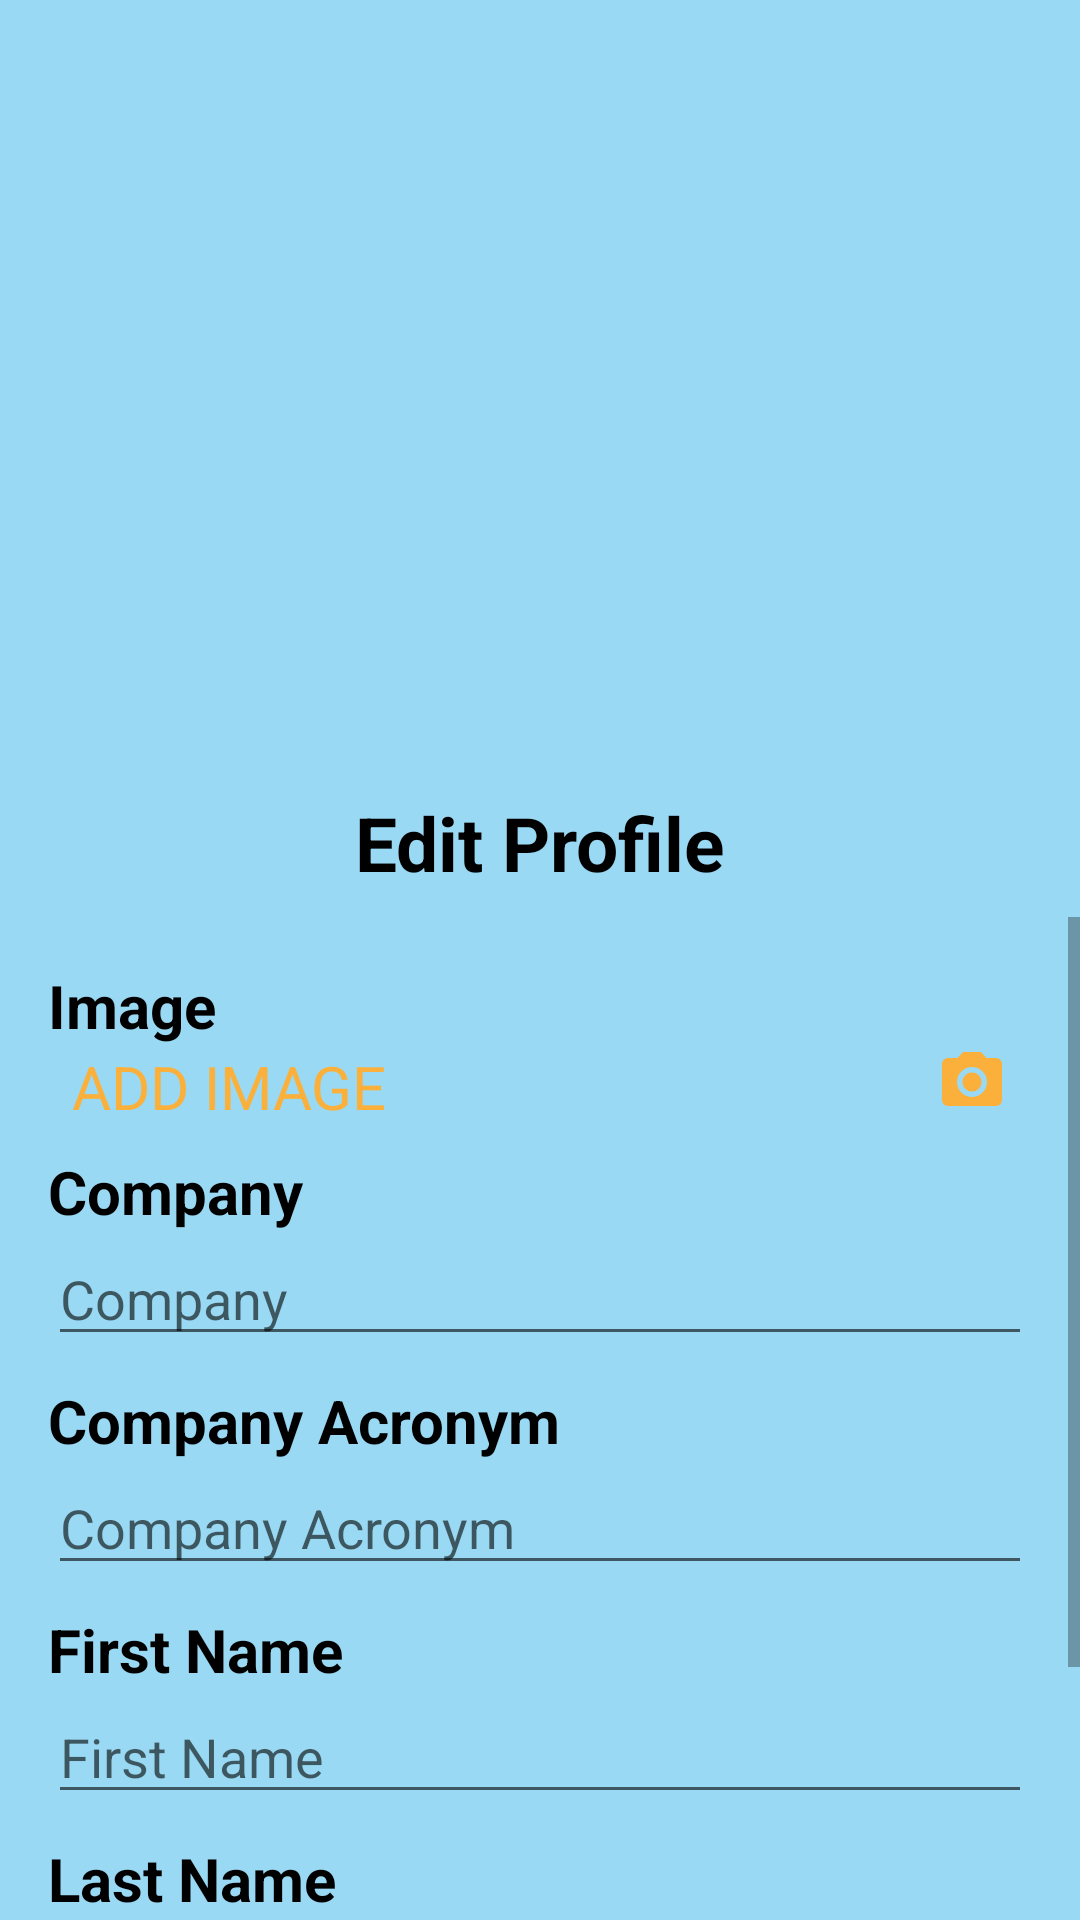

Where icons sit on this 1080×1920 app screen, as (x1, y1, x2, y2):
camera: (942, 1052, 1002, 1106)
